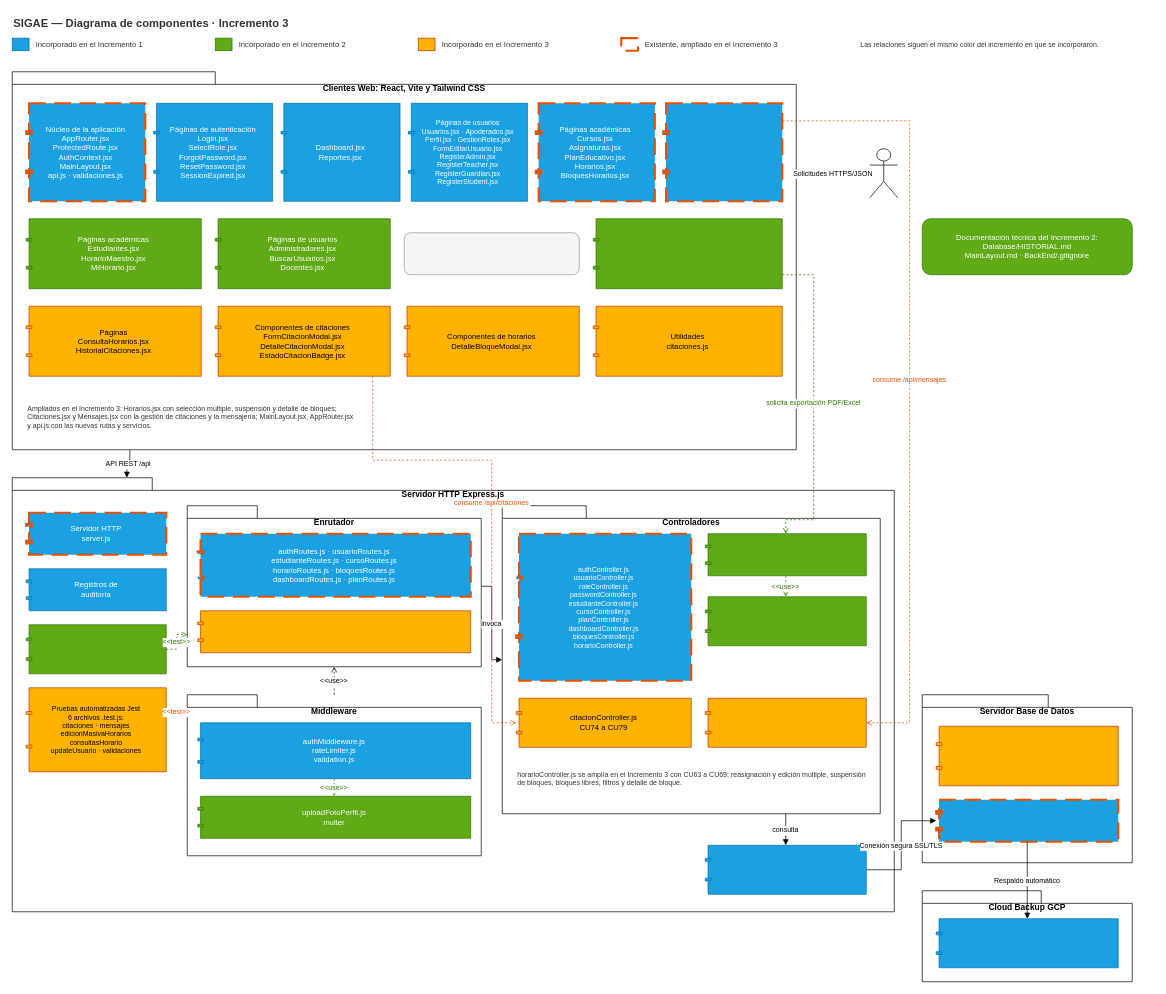
Some shapes in this 1166 by 994 pixel diagram are drawn without their labels. The shapes that lost their labels are listed below. From the top down, each one's centre as x and y in pixels, then its label:
the point at 722,152: Páginas de comunicación Citaciones.jsx Mensajes.jsx
the point at 883,173: Usuario
the point at 491,253: Sidebar.jsx se integró en MainLayout.jsx durante el Incremento 2.
the point at 687,253: Componentes ExportMenu.jsx ListaEstudiantesApoderado.jsx
the point at 785,554: exportController.js CU60 a CU62
the point at 334,631: citacionRoutes.js mensajeRoutes.js
the point at 785,621: Librerías de exportación pdfkit · exceljs · puppeteer
the point at 96,649: Pruebas automatizadas Jest 17 archivos .test.js
the point at 785,722: mensajeController.js CU73
the point at 1027,756: Tablas citacion, conversacion y mensaje Dirección estructurada en estudiante
the point at 1027,820: MySQL SIGAE.sql
the point at 785,869: Conexión Base de Datos config/db.js · mysql2
the point at 1027,943: Almacenamiento de respaldos Copias diarias
